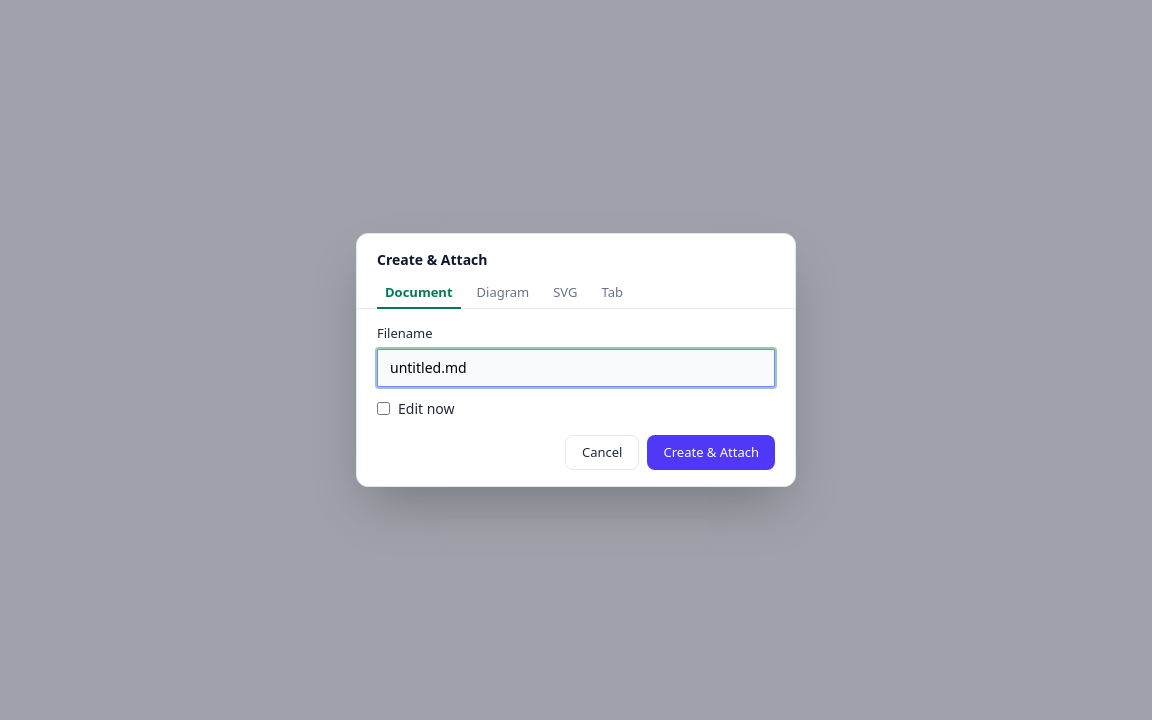
Scenario: CreateAttachEntityModal › disables confirm when Diagram tab is active (deferred persistence)
Click the tab with test id "create-attach-type-diagram". click: (503, 294)
box: x1=468 y1=278 x2=537 y2=309
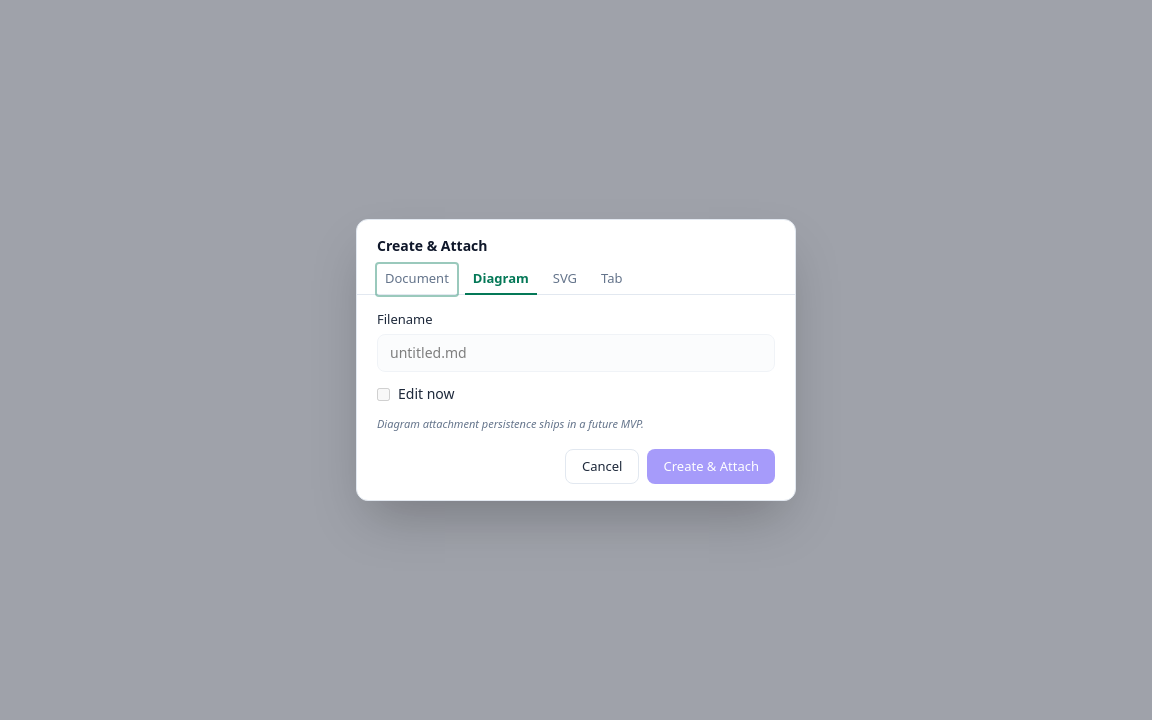
Check: the button with test id "create-attach-confirm" is disabled, box x1=648 y1=449 x2=775 y2=484
